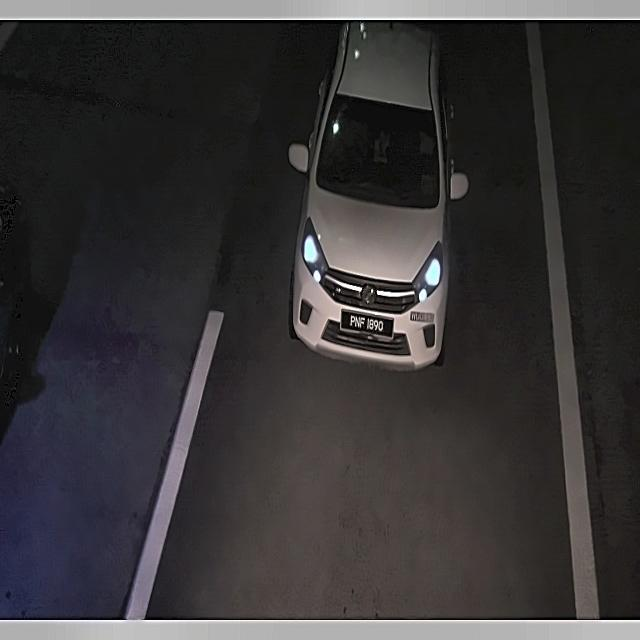car: (337, 302, 400, 343)
